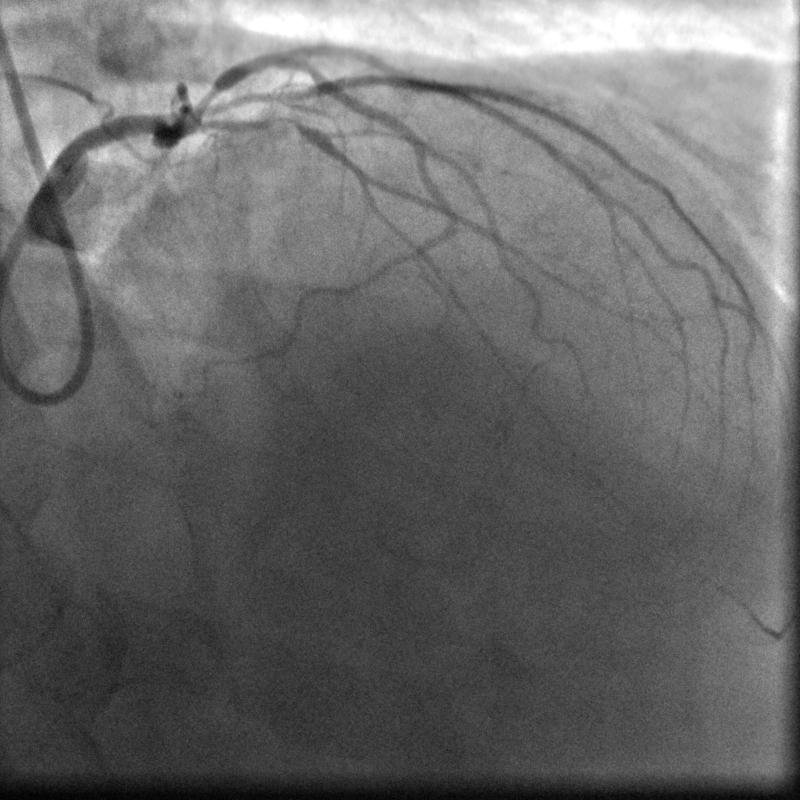Stenosis: (192, 80, 224, 116)
